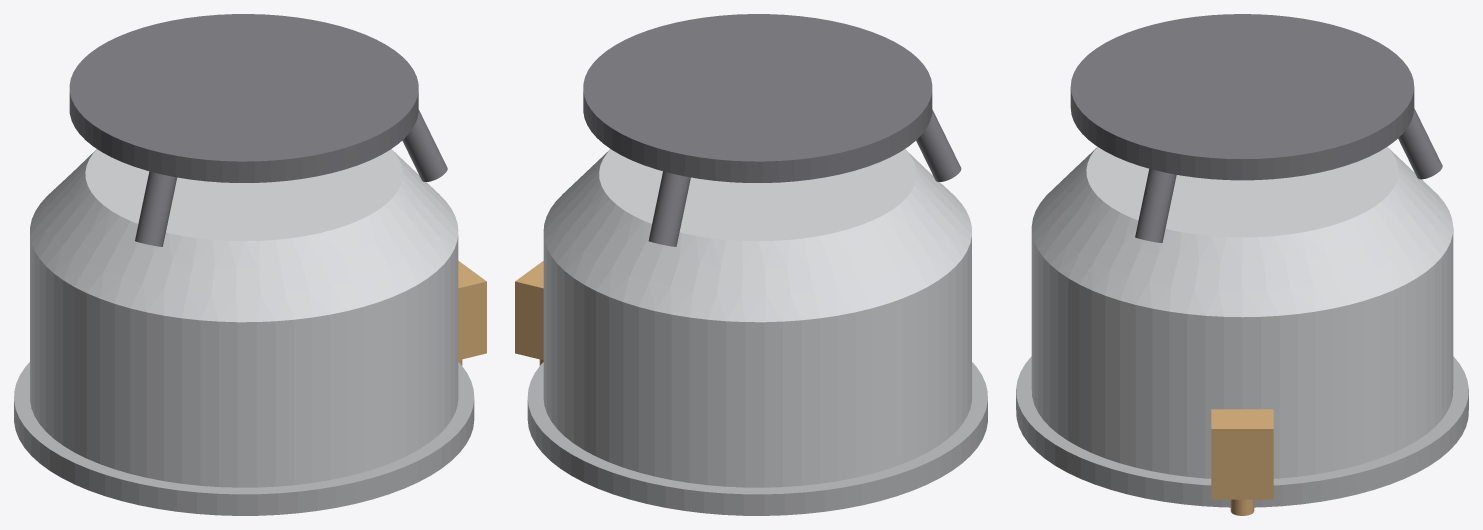
Rendered from prop03_ion_engine.glb.
3 views of the same model, side by side, from view 1: azimuth 30°, elevation 25°; view 2: azimuth 150°, elevation 25°; view 3: azimuth 270°, elevation 25° (orthographic).
Parts seen in each view (by area): view 1: discharge_chamber, gimbal, mask_ring, neutralizer; view 2: discharge_chamber, gimbal, mask_ring, neutralizer; view 3: discharge_chamber, gimbal, mask_ring, neutralizer.
Boxes of the visible parts, x1,y1,x2,y2 form: discharge_chamber: (30, 149, 458, 487); gimbal: (69, 14, 447, 246); mask_ring: (14, 362, 474, 515); neutralizer: (458, 261, 486, 365); discharge_chamber: (543, 149, 971, 487); gimbal: (583, 14, 961, 246); mask_ring: (527, 362, 987, 515); neutralizer: (515, 261, 543, 365); discharge_chamber: (1031, 147, 1453, 478); gimbal: (1070, 14, 1442, 242); mask_ring: (1016, 356, 1468, 507); neutralizer: (1211, 409, 1273, 515).
Size of the model in its own units: 0.6197 by 0.46 by 0.5799.
